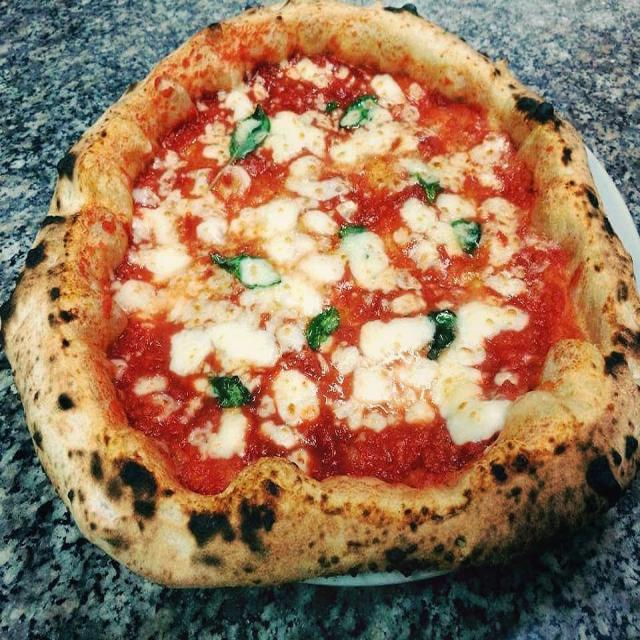basil: (207, 242, 285, 292), (227, 100, 270, 162), (322, 89, 384, 131), (426, 301, 460, 362), (207, 372, 257, 410), (307, 306, 342, 351), (450, 212, 483, 258), (413, 165, 445, 207), (339, 219, 365, 245)
pizza: (0, 0, 640, 594)
